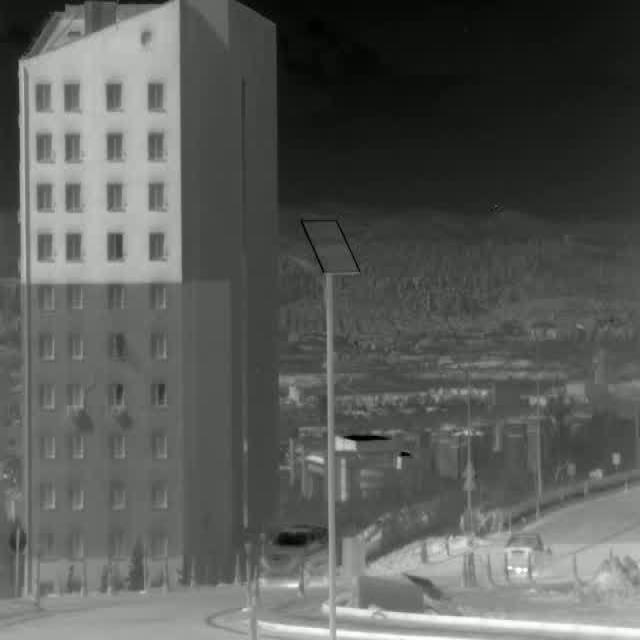Car: (258, 525, 329, 587), (500, 529, 548, 576)
